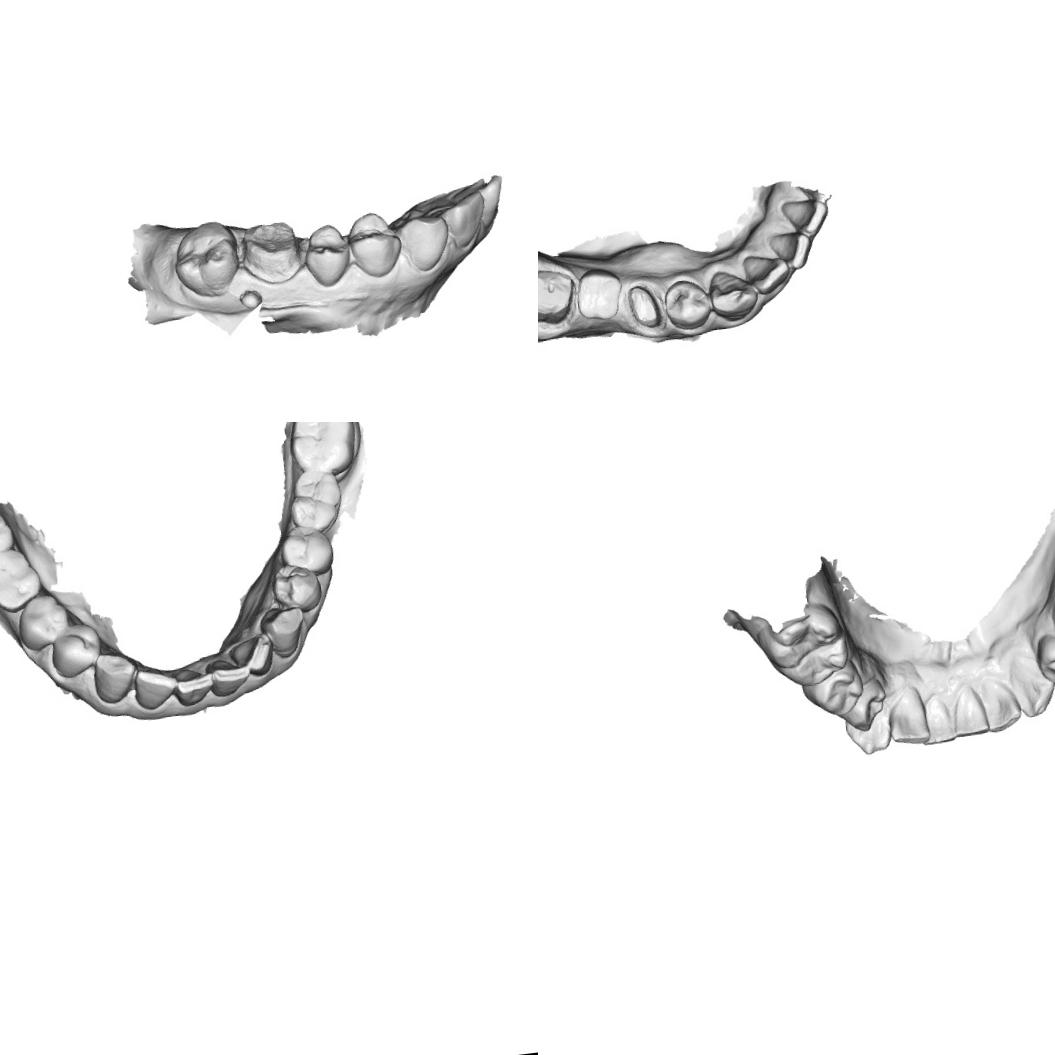canine: (394, 203, 452, 277), (840, 690, 900, 761), (256, 598, 312, 662), (88, 645, 144, 709), (1003, 654, 1055, 721), (706, 266, 760, 326)
crown: (235, 211, 306, 284), (538, 260, 578, 331), (623, 280, 666, 336)
incisor: (878, 680, 934, 750), (439, 184, 488, 254), (976, 675, 1026, 737), (128, 660, 182, 714), (947, 679, 993, 741), (224, 630, 280, 679), (918, 691, 966, 748), (166, 660, 219, 710), (740, 250, 792, 298), (205, 650, 254, 700), (779, 196, 832, 240), (766, 228, 816, 274)
molar: (758, 602, 857, 694), (168, 214, 246, 300), (280, 464, 350, 536), (284, 422, 360, 481), (568, 264, 628, 324), (0, 543, 46, 617), (0, 504, 17, 570)
premolar: (343, 206, 406, 283), (798, 657, 869, 723), (11, 589, 74, 656), (299, 220, 357, 292), (277, 520, 338, 582), (46, 618, 106, 681), (265, 557, 325, 615), (838, 676, 892, 734), (660, 276, 713, 332), (1031, 626, 1055, 688)
